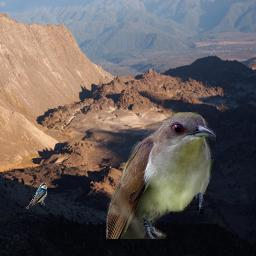Cuckoo: (106, 112, 216, 239)
Swallow: (25, 182, 48, 209)
